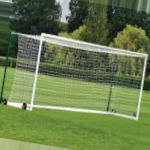goals: (7, 30, 149, 123)
